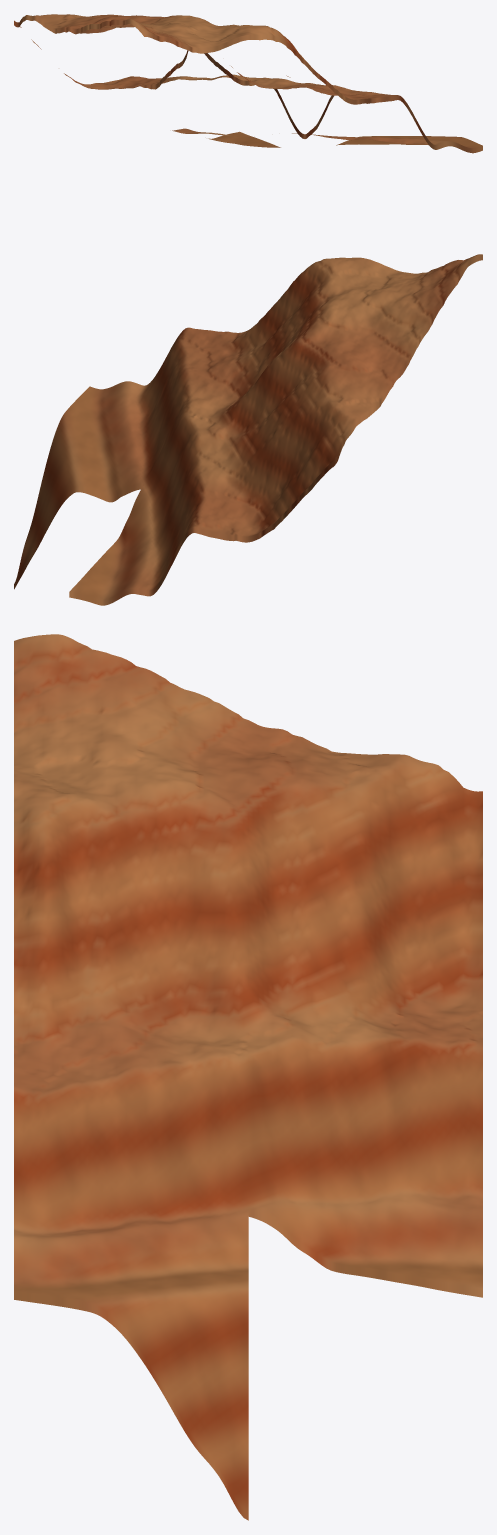
Rendered from terrain-001.glb.
3 renders of one model, top to bottom at view 1: azimuth 30°, elevation 25°; view 2: azimuth 150°, elevation 25°; view 3: azimuth 270°, elevation 25°, orthographic. The views are drawn at different scales.
Visible parts, largest first — view 1: terrain-001; view 2: terrain-001; view 3: terrain-001.
Part boxes in pixels (x1=…): terrain-001: x1=14, y1=14, x2=482, y2=153; terrain-001: x1=14, y1=254, x2=482, y2=605; terrain-001: x1=14, y1=634, x2=482, y2=1520.
Bounding box in the file's own units: 288 × 266 × 192.
